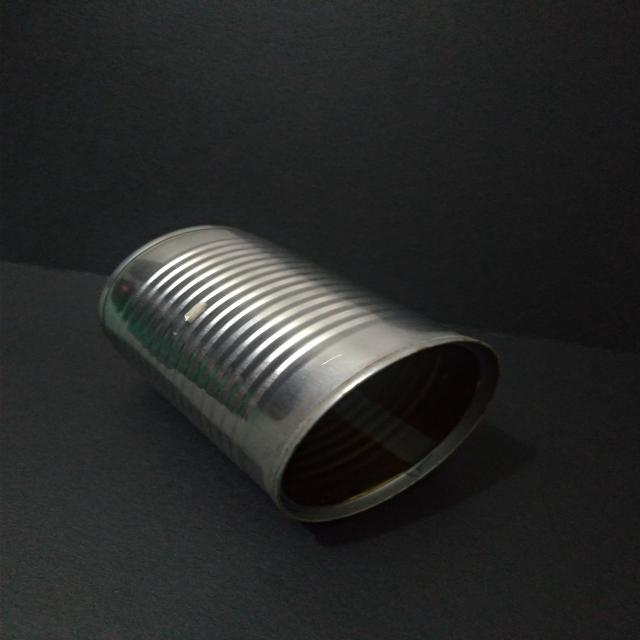metal-can: (95, 218, 508, 534)
